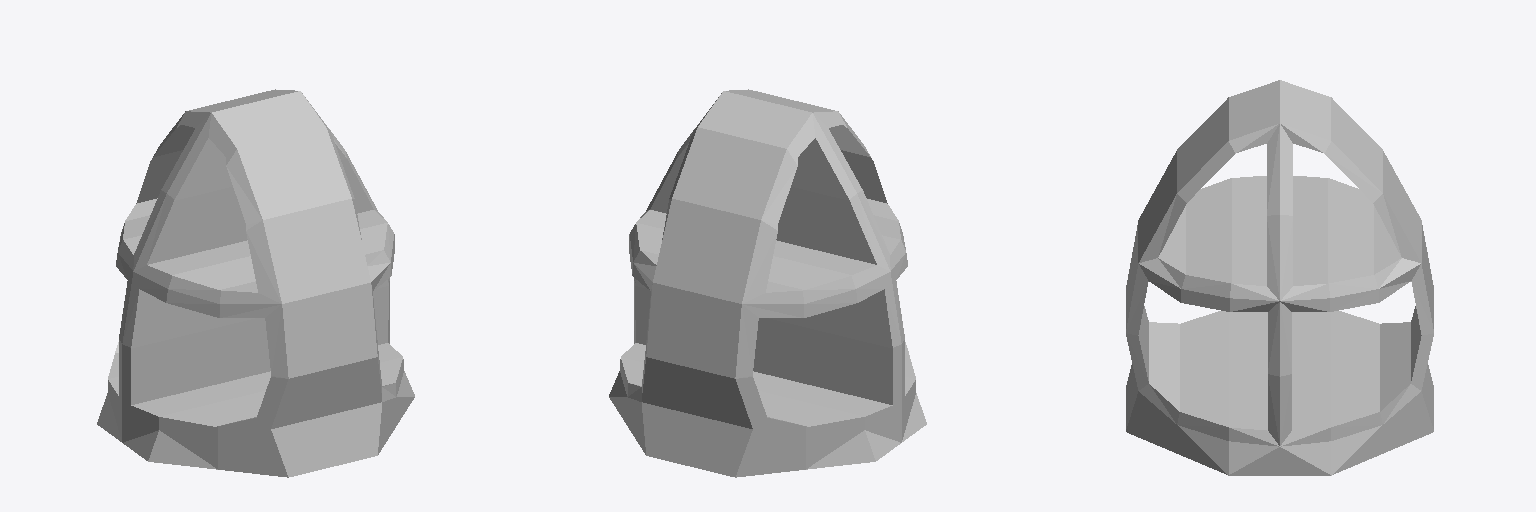
3 renders of one model, left to right at view 1: azimuth 30°, elevation 25°; view 2: azimuth 150°, elevation 25°; view 3: azimuth 270°, elevation 25°, orthographic.
Parts seen in each view (by area): view 1: octotoad1; view 2: octotoad1; view 3: octotoad1.
Boxes of the visible parts, box(x1,y1,x2,y2) form: octotoad1: box(97, 89, 414, 477); octotoad1: box(609, 89, 926, 477); octotoad1: box(1126, 80, 1433, 475).
Size of the model in its own units: 300 by 331 by 300.